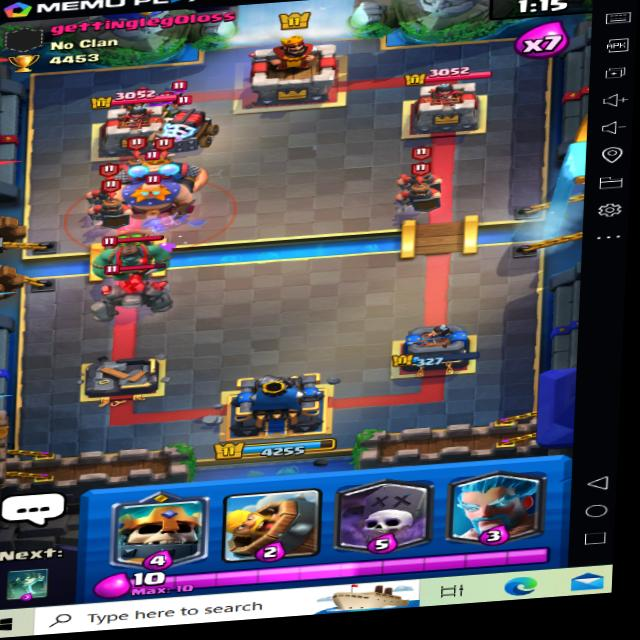Egiant: (101, 159, 206, 228)
Goblingiant: (83, 219, 176, 278)
Golem: (96, 260, 184, 319)
Musketeer: (119, 76, 158, 115), (160, 69, 198, 109)
Royalgiant: (111, 150, 213, 198)
Royalrecruits: (391, 138, 452, 197), (84, 153, 138, 212), (91, 178, 134, 230), (399, 163, 442, 214)
Sparky: (148, 93, 221, 154)
